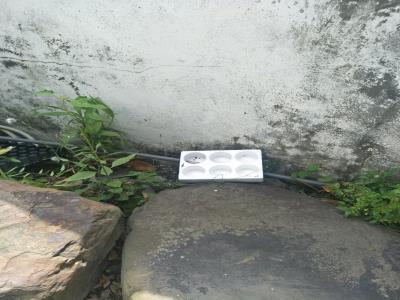box: (175, 147, 266, 186)
